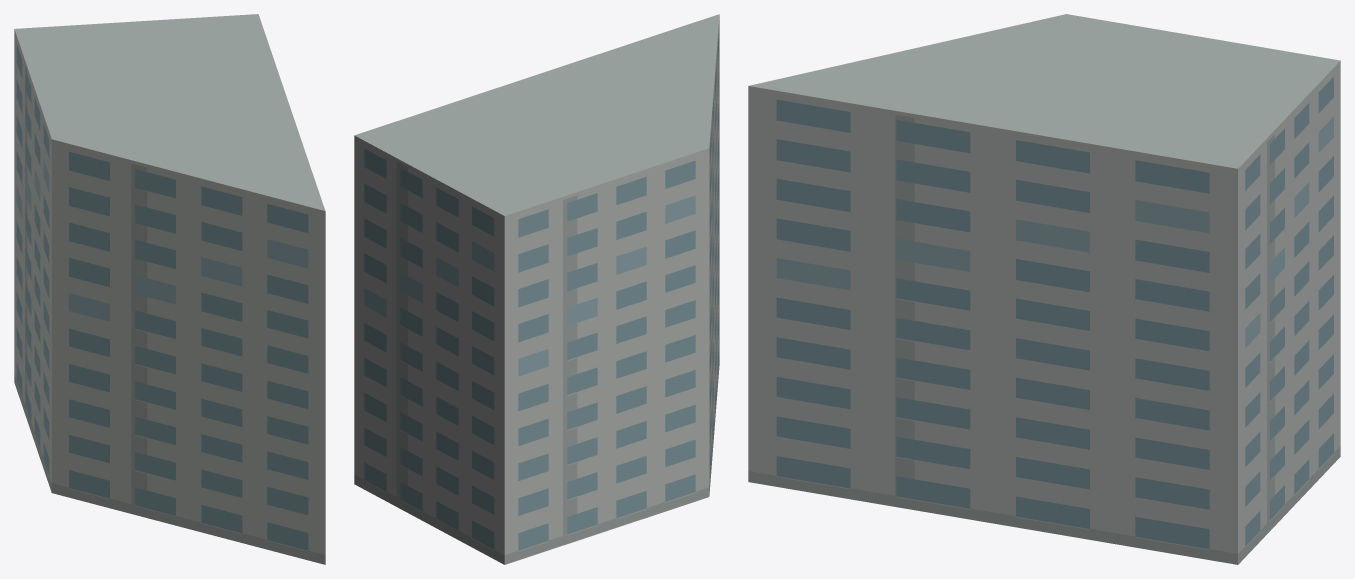
The model's file is residential-bb4a5850-68f8-42ce-8473-e82af6ec7d6f.glb.
The picture shows the model from 3 angles, left to right: view 1: azimuth 30°, elevation 25°; view 2: azimuth 150°, elevation 25°; view 3: azimuth 270°, elevation 25°; orthographic projection. The views are drawn at different scales.
Visible parts, largest first — view 1: residential-bb4a5850-68f8-42ce-8473-e82af6ec7d6f.tmp; view 2: residential-bb4a5850-68f8-42ce-8473-e82af6ec7d6f.tmp; view 3: residential-bb4a5850-68f8-42ce-8473-e82af6ec7d6f.tmp.
Part boxes in pixels (left/top/right/bottom): residential-bb4a5850-68f8-42ce-8473-e82af6ec7d6f.tmp: left=14, top=14, right=325, bottom=564; residential-bb4a5850-68f8-42ce-8473-e82af6ec7d6f.tmp: left=354, top=14, right=719, bottom=564; residential-bb4a5850-68f8-42ce-8473-e82af6ec7d6f.tmp: left=748, top=14, right=1340, bottom=564.
Size of the model in its own units: 20.97 by 25 by 33.89.
